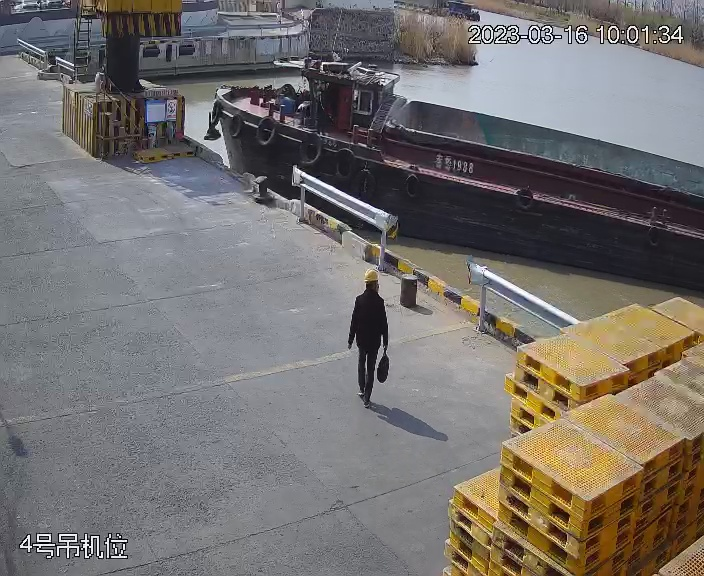head: (352, 269, 387, 313)
helmet: (362, 268, 381, 284)
people: (345, 266, 393, 408)
